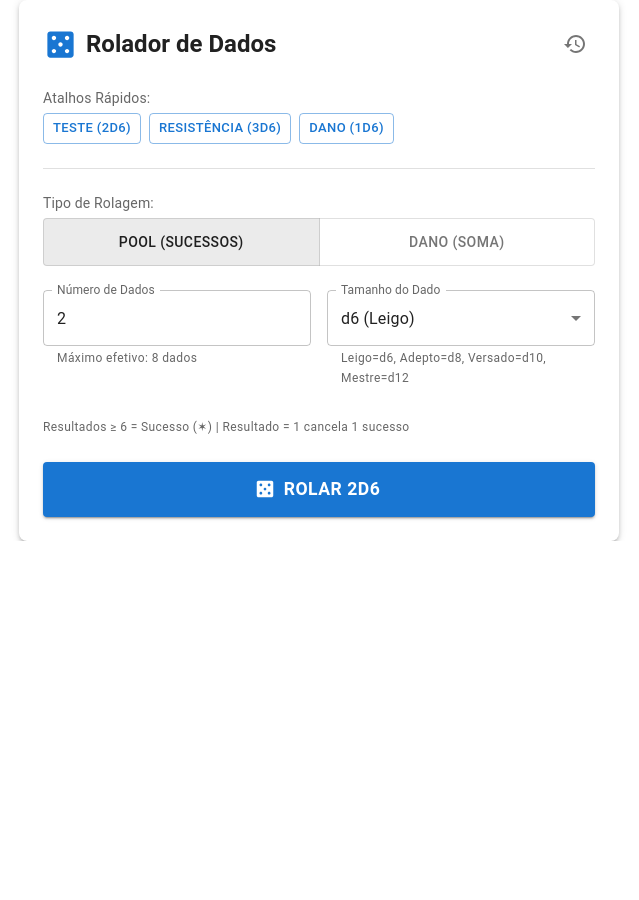
Test: DiceRoller › Pool Mode Rolling › should display result after rolling
Click the button with aria-label "rolar dados" at {"x": 319, "y": 489}, box x1=43 y1=462 x2=595 y2=517
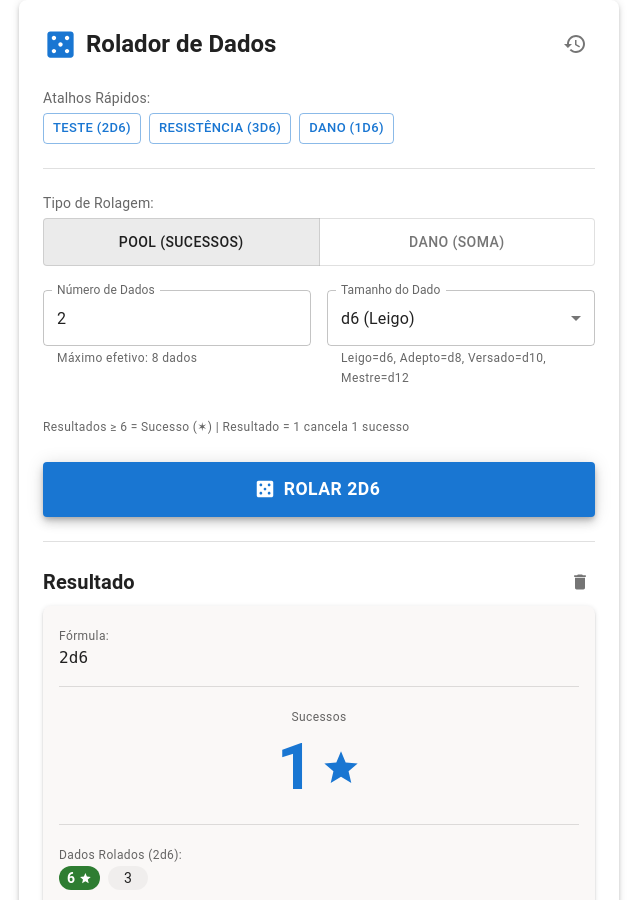
Check: the heading "Resultado" is shown, box x1=43 y1=566 x2=135 y2=598
